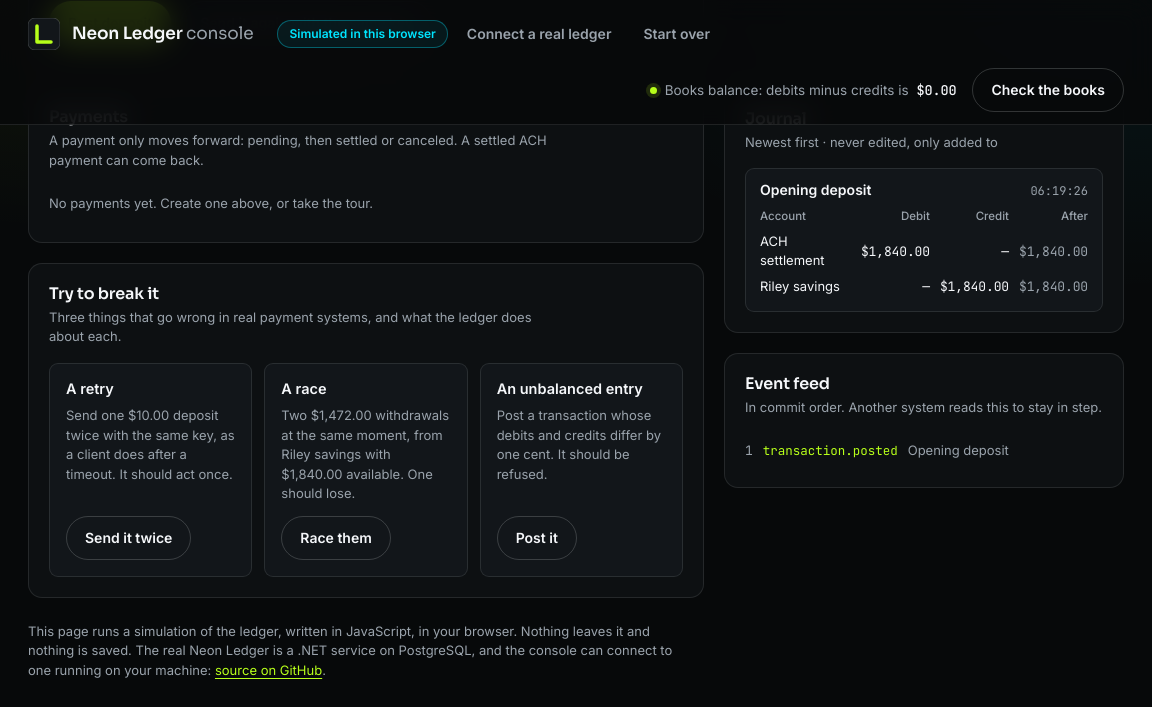
trying to break it › refuses an entry that is off by a cent
The width and height of the screenshot is (1152, 707).
(page scrolled)
Click the button "Post it".
click(537, 538)  # box x1=497 y1=516 x2=577 y2=560
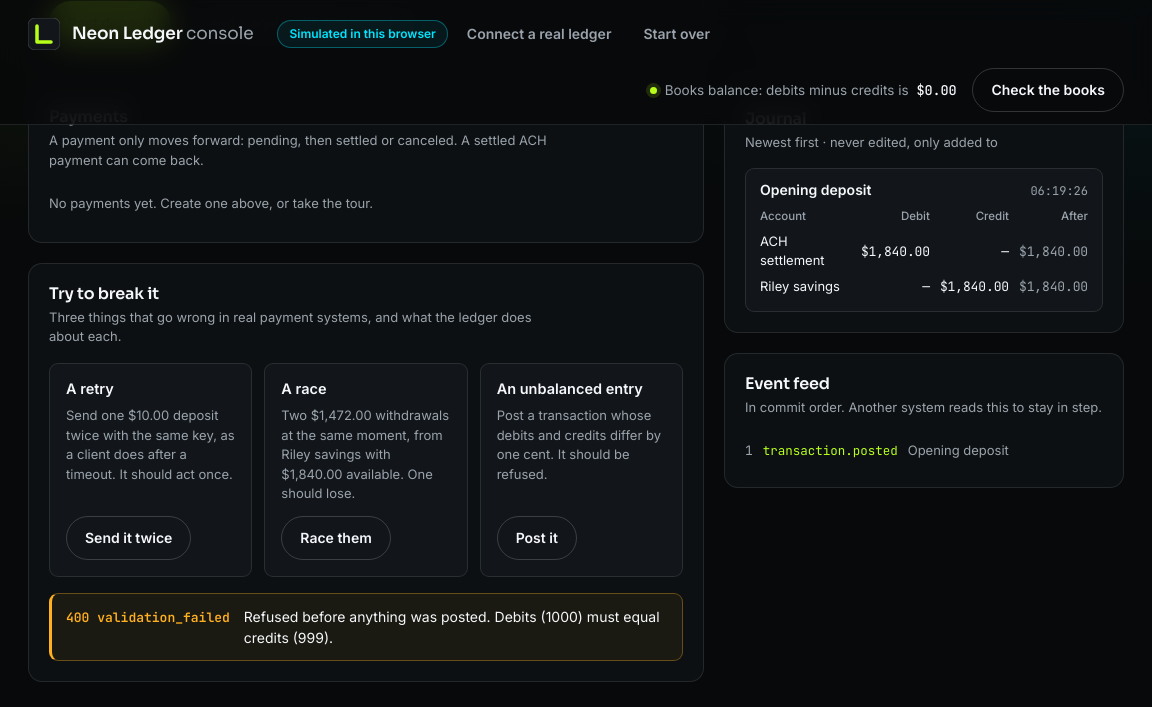
Now the message shows "400 validation_failed", box x1=66 y1=609 x2=230 y2=626
Now the message shows "Debits (1000) must equal credits (999).", box x1=244 y1=608 x2=660 y2=646
